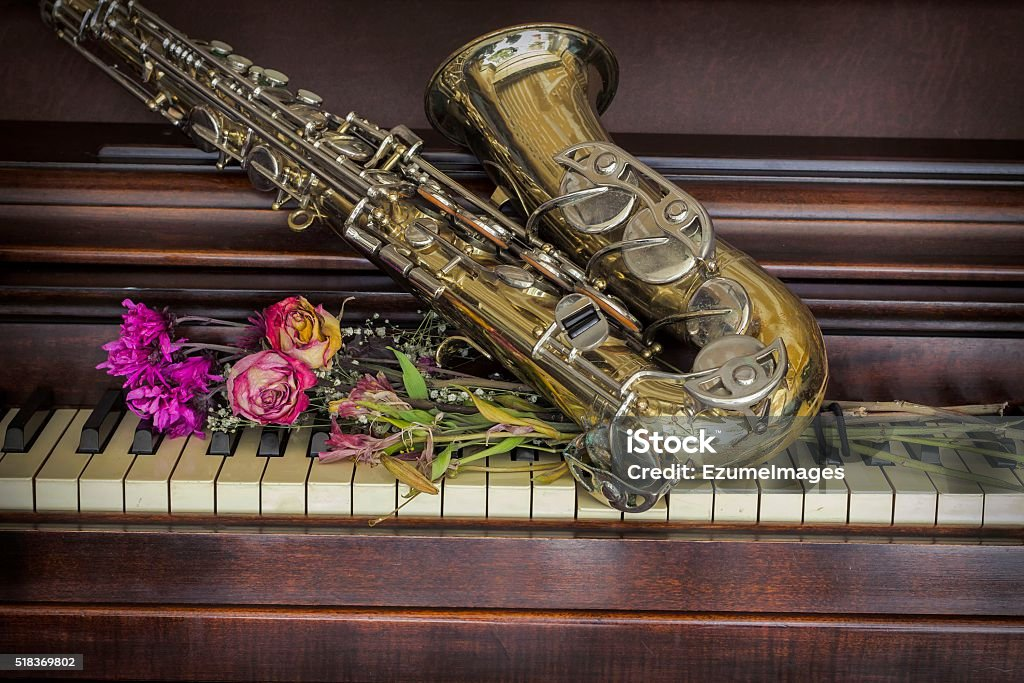Piano: (4, 163, 1024, 638)
Saxophone: (1, 1, 890, 462)
